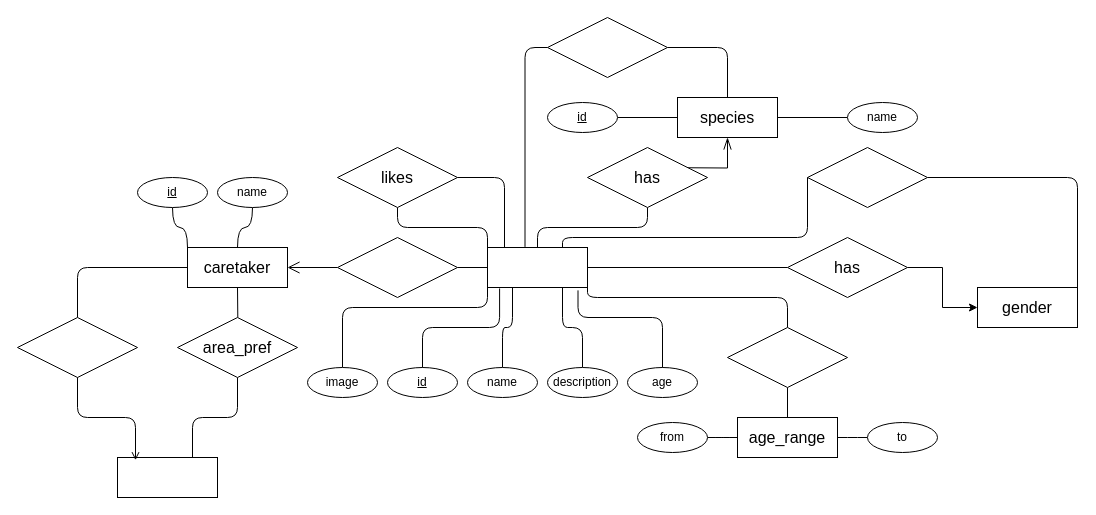
This 1096x515 diagram has some shape labels left out. Each missing label, with the centre of its shape:
age_pref: the point at 787,357
area: the point at 167,477
gender_pref: the point at 867,177
lives_at: the point at 77,347
owns: the point at 397,267
pet: the point at 537,267
species_pref: the point at 607,47
